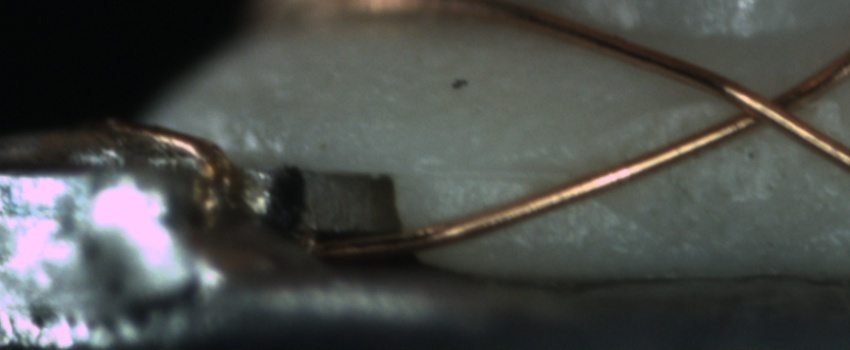CL: (710, 73, 819, 143)
DL: (423, 137, 579, 201)
TE: (101, 114, 247, 211)
